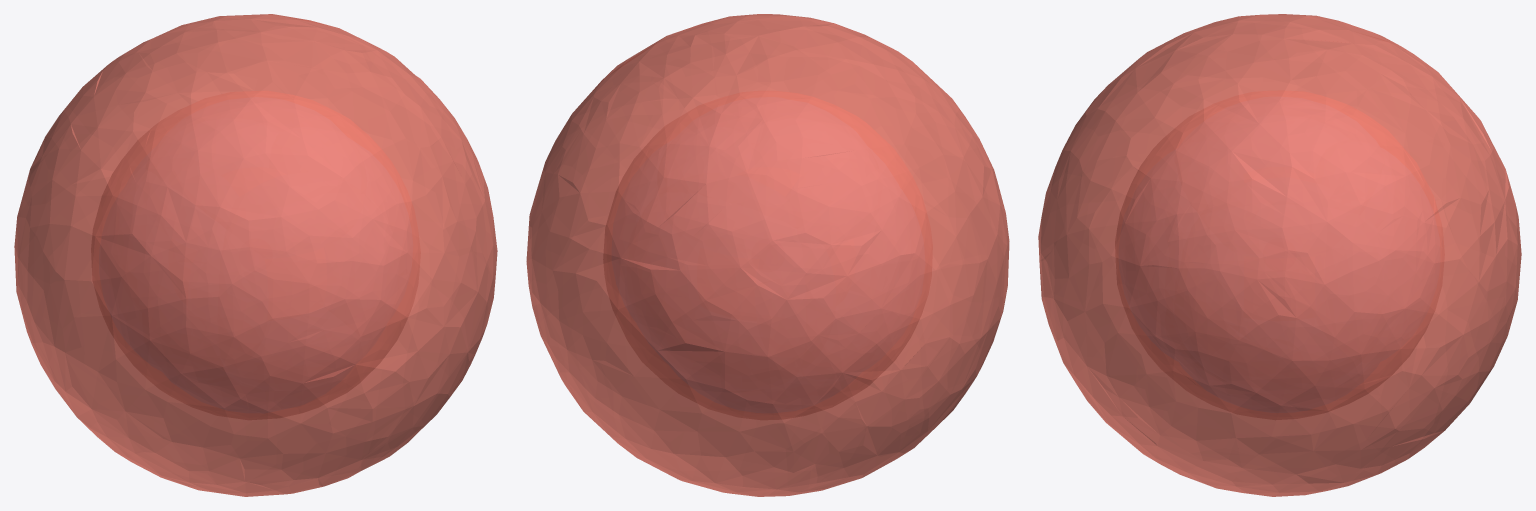
Rendered from orbital.glb.
The picture shows the model from 3 angles, left to right: view 1: azimuth 30°, elevation 25°; view 2: azimuth 150°, elevation 25°; view 3: azimuth 270°, elevation 25°; orthographic projection.
Visible parts, largest first — view 1: Mg_n3_s_ml0_node, Mg_n2_s_ml0_node; view 2: Mg_n3_s_ml0_node, Mg_n2_s_ml0_node; view 3: Mg_n3_s_ml0_node, Mg_n2_s_ml0_node.
Boxes of the visible parts, <box> form: Mg_n3_s_ml0_node: <box>14,14,497,496</box>; Mg_n2_s_ml0_node: <box>91,91,420,419</box>; Mg_n3_s_ml0_node: <box>526,14,1009,496</box>; Mg_n2_s_ml0_node: <box>603,91,932,419</box>; Mg_n3_s_ml0_node: <box>1038,14,1521,496</box>; Mg_n2_s_ml0_node: <box>1115,90,1444,419</box>.
Size of the model in its own units: 1.57 by 1.57 by 1.57.
